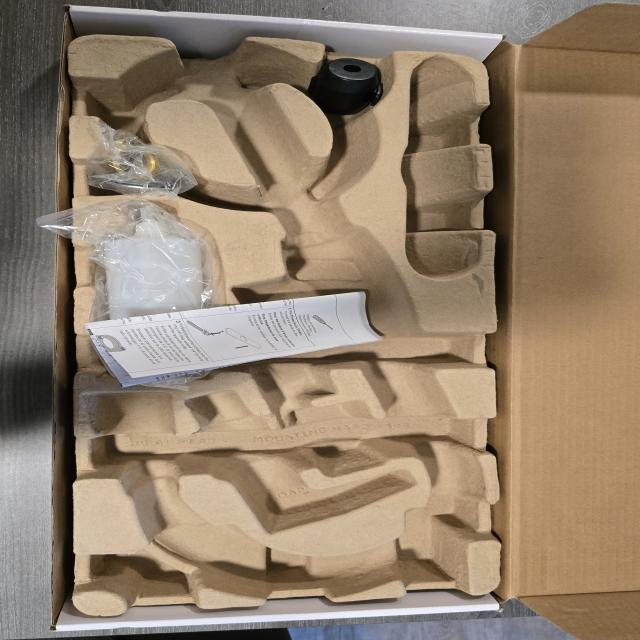1m: (81, 37, 482, 596)
2m: (183, 389, 419, 535)
3o: (103, 201, 207, 384)
4m: (402, 56, 481, 282)
5: (311, 56, 383, 116)
6: (87, 128, 201, 197)
7m: (84, 61, 187, 129)
8: (84, 292, 384, 388)
